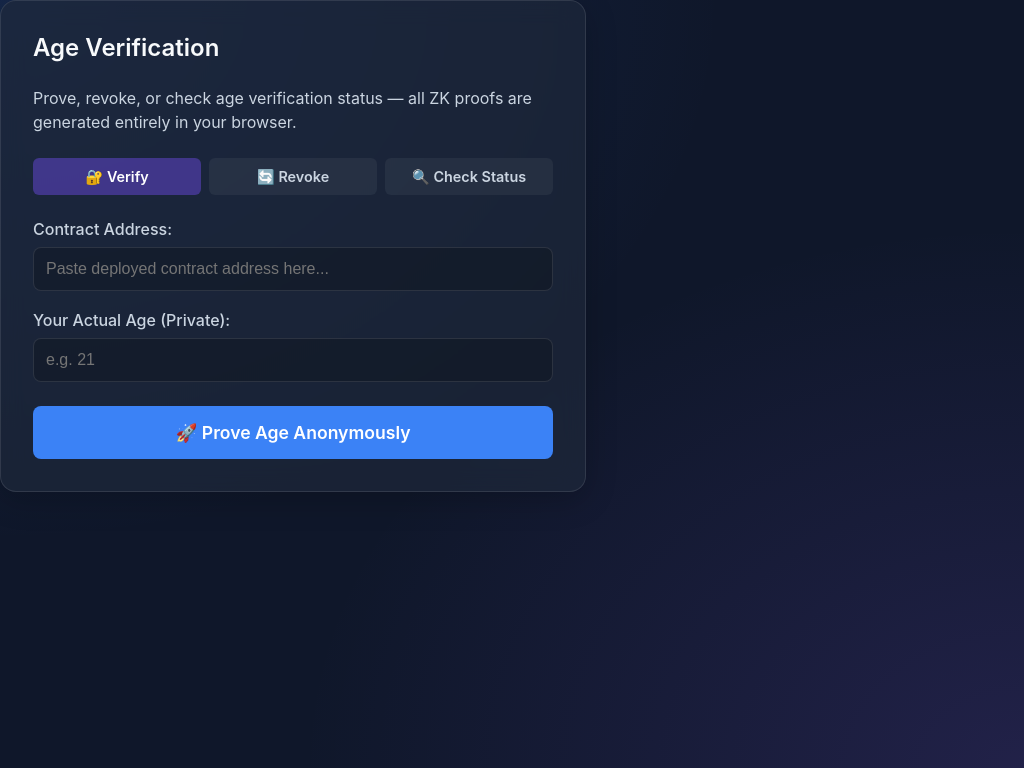
Test case: OneClickVerify Component › shows an error if user tries to prove without entering age
Click without filling in age
Click the button "🚀 Prove Age Anonymously": (293, 433) [33,406,553,459]
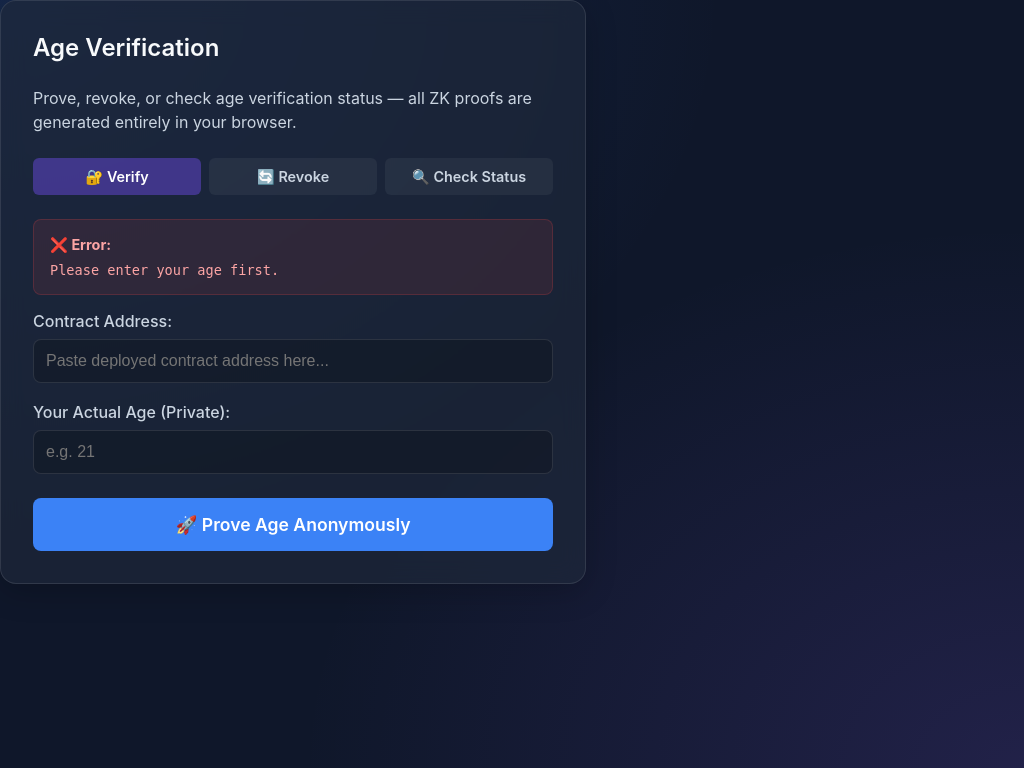
Expected: the text "Please enter your age first." is shown, [50,262,279,278]
